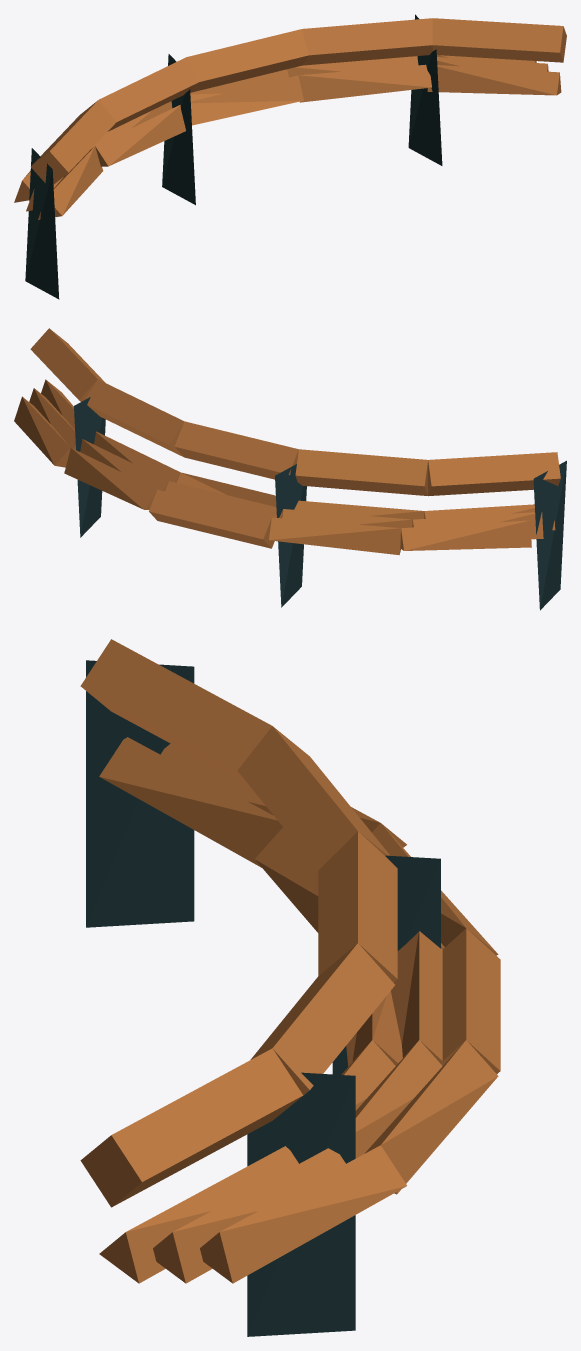
Rendered from bench_curved.fbx.
3 renders of one model, top to bottom at view 1: azimuth 30°, elevation 25°; view 2: azimuth 150°, elevation 25°; view 3: azimuth 270°, elevation 25°, orthographic. The views are drawn at different scales.
Parts seen in each view (by area): view 1: bench_curved; view 2: bench_curved; view 3: bench_curved.
Boxes of the visible parts, <box> form: bench_curved: <box>14,14,566,299</box>; bench_curved: <box>14,328,566,610</box>; bench_curved: <box>80,639,500,1336</box>.
Bounding box in the file's own units: 3.5 × 0.9 × 1.2.
